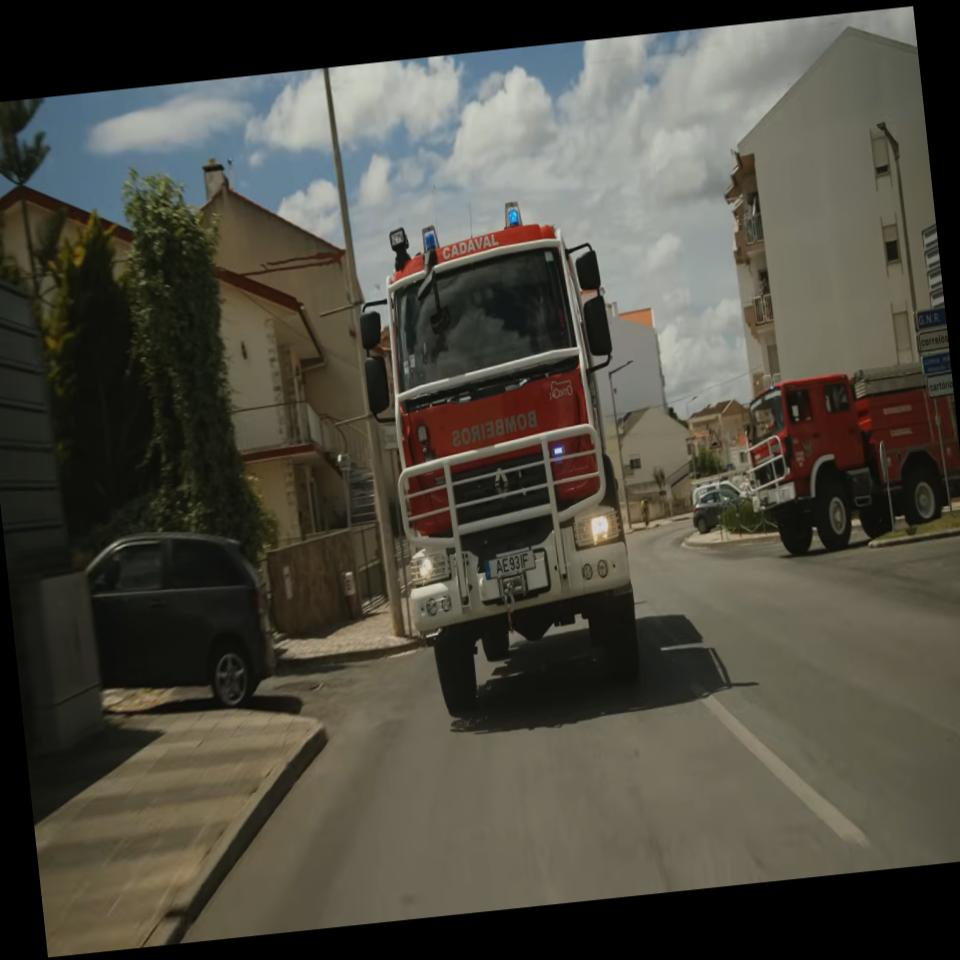viatura: (346, 204, 654, 721), (735, 358, 960, 559)
